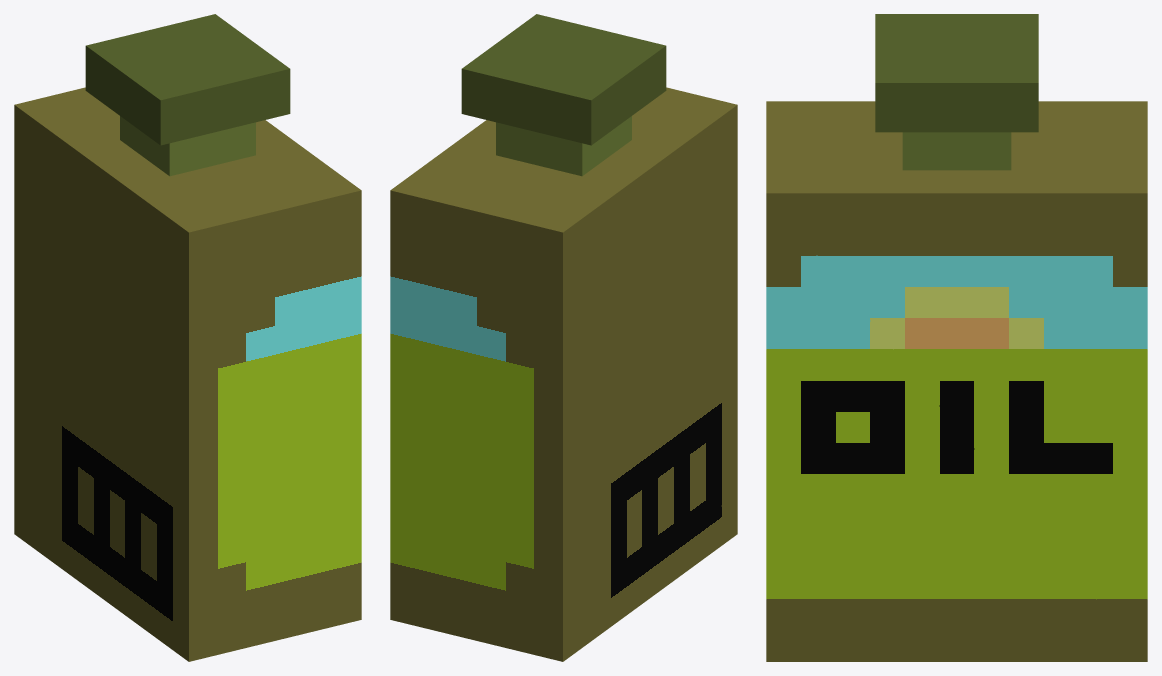
Rendered from olive_oil.fbx.
The picture shows the model from 3 angles, left to right: view 1: azimuth 30°, elevation 25°; view 2: azimuth 150°, elevation 25°; view 3: azimuth 270°, elevation 25°; orthographic projection. The views are drawn at different scales.
Visible parts, largest first — view 1: cube, cube_2, cube_1; view 2: cube, cube_2, cube_1; view 3: cube, cube_2, cube_1.
Part boxes in pixels (left/top/right/bottom): cube: left=14, top=87, right=361, bottom=661; cube_2: left=85, top=14, right=290, bottom=145; cube_1: left=120, top=116, right=255, bottom=176; cube: left=390, top=87, right=737, bottom=661; cube_2: left=461, top=14, right=666, bottom=145; cube_1: left=496, top=116, right=631, bottom=176; cube: left=766, top=101, right=1147, bottom=661; cube_2: left=875, top=14, right=1038, bottom=132; cube_1: left=902, top=132, right=1011, bottom=170.
Bounding box in the file's own units: 5 × 14.38 × 8.75.
